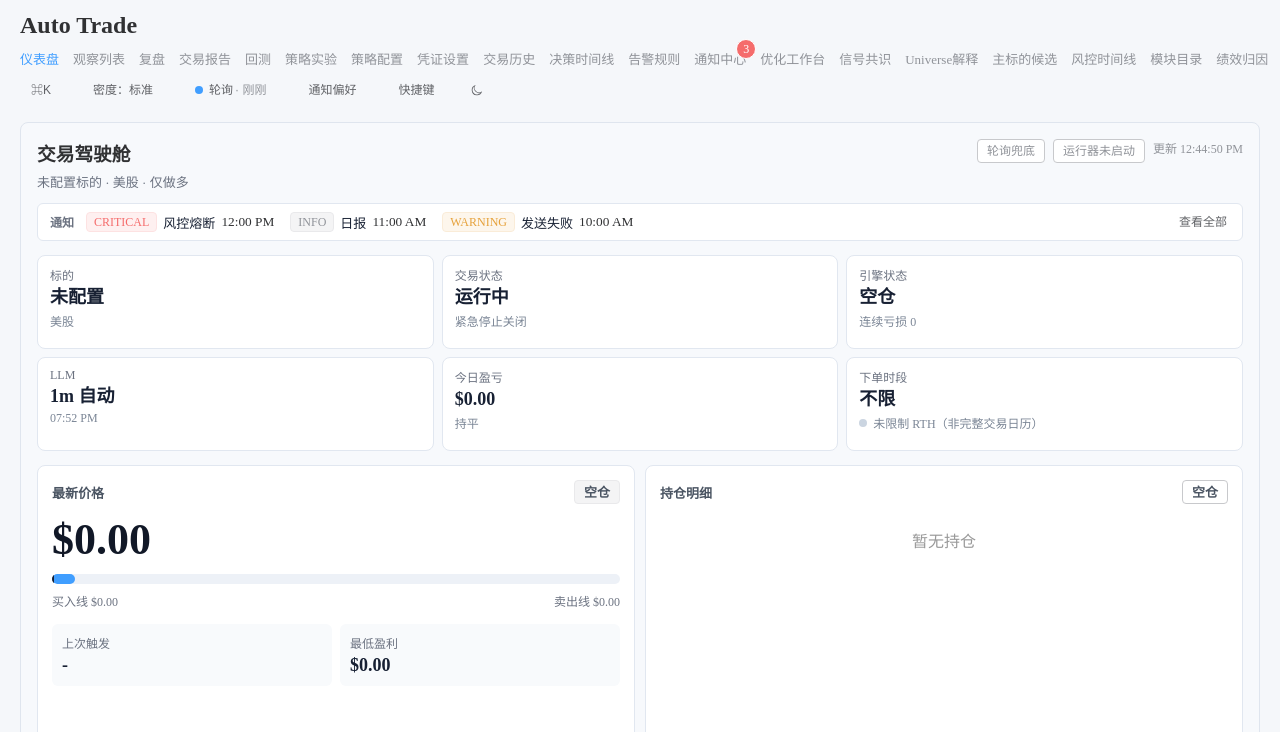
Test case: Global connection health › opens a health popover with connection + runner state
Expected: the link "仪表盘" is shown, x1=20 y1=49 x2=59 y2=68
Click the button with test id "nav-health": (231, 90) x1=184 y1=78 x2=277 y2=102
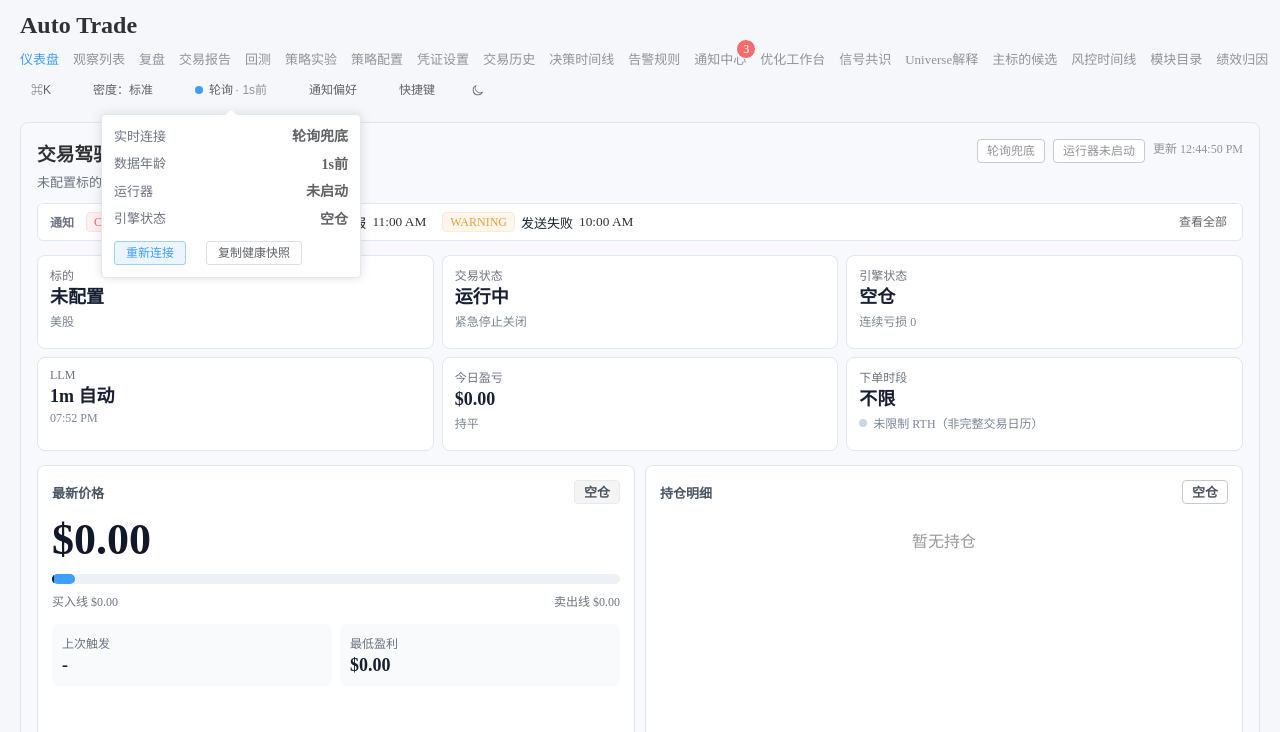
Expected: the element with test id "health-panel" is shown, x1=114 y1=127 x2=348 y2=265
Expected: the text with test id "health-panel" reads "实时连接", x1=114 y1=129 x2=166 y2=144
Expected: the text with test id "health-panel" reads "运行器", x1=114 y1=184 x2=153 y2=199
